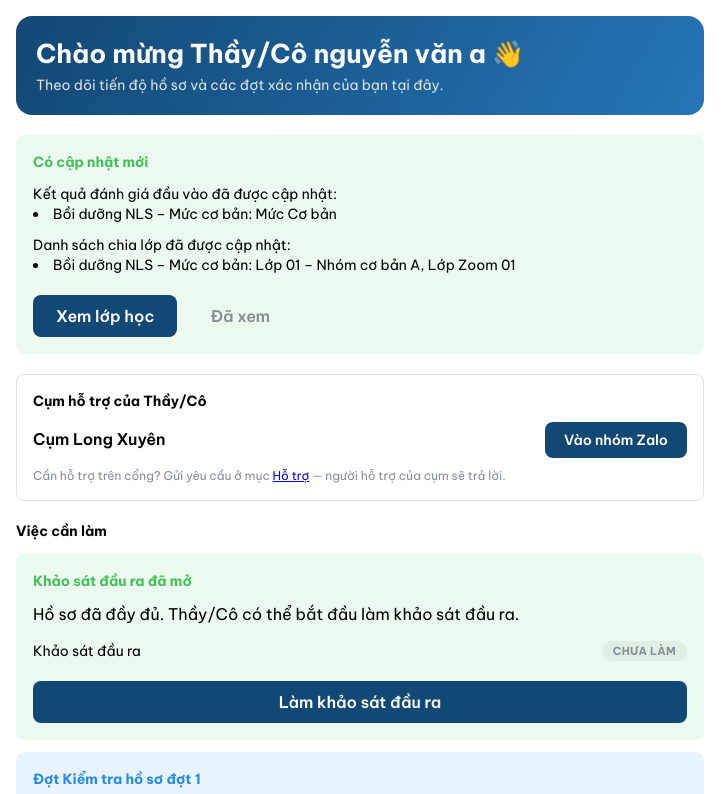
Test case: M3 — khảo sát đầu vào / đầu ra › đầu ra: cấp mã bị từ chối -> hiện lỗi, không chuyển trang
Step 1. Click the button "Làm khảo sát đầu ra" → (360, 702), box x1=33 y1=681 x2=687 y2=723
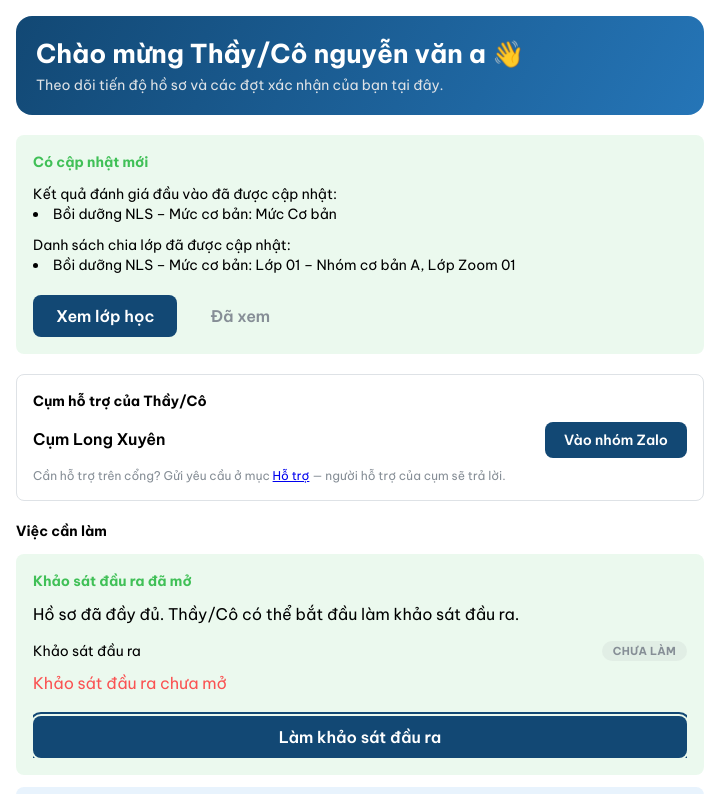
Result: the text "Khảo sát đầu ra chưa mở" is shown at x1=33 y1=673 x2=227 y2=693
